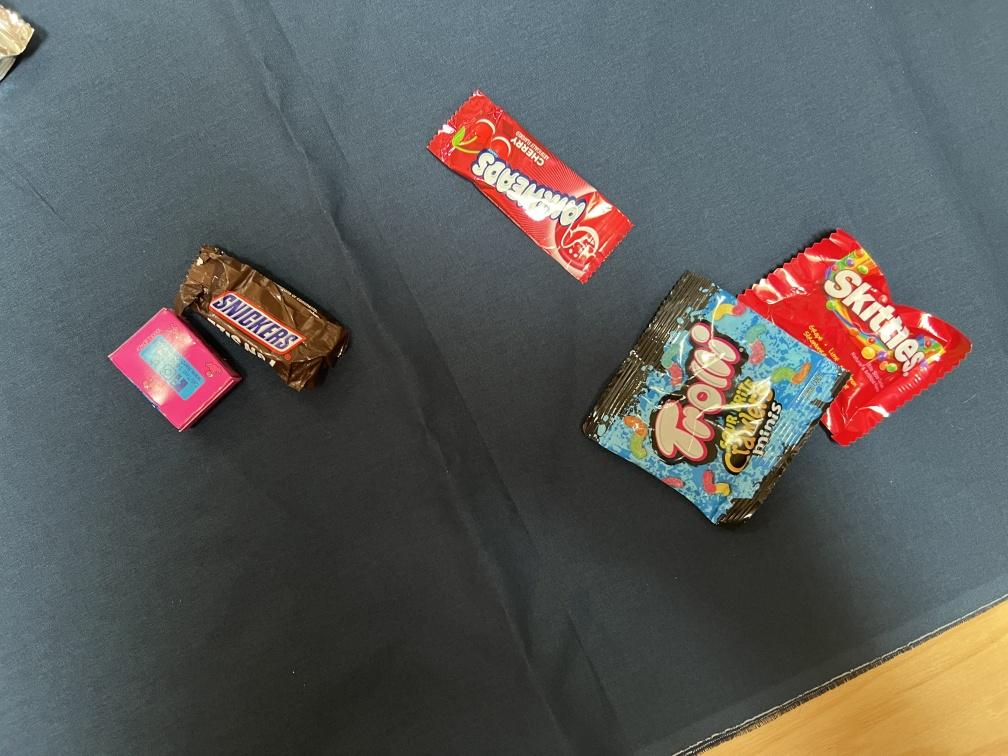Snickers: (181, 245, 355, 392)
Trolli: (583, 271, 834, 527)
airheads: (428, 90, 628, 279)
nerds: (107, 307, 245, 432)
skittles: (739, 230, 979, 449)
